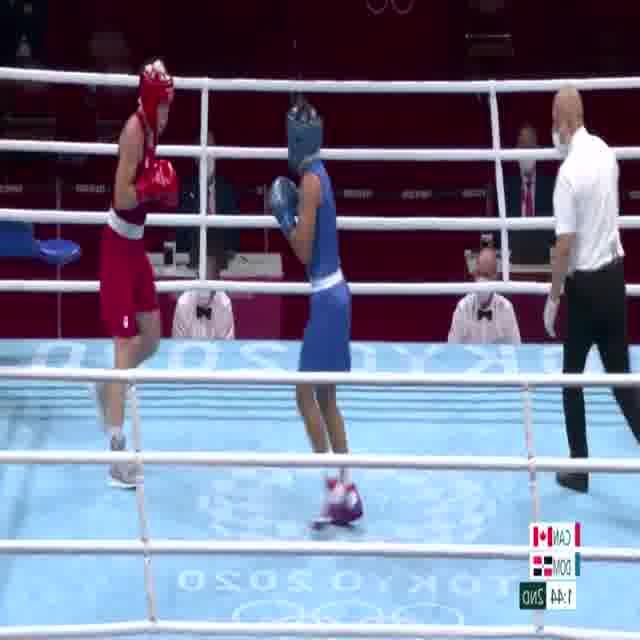blue-player: (266, 94, 366, 536)
red-player: (97, 53, 184, 493)
referee: (550, 79, 640, 497)
